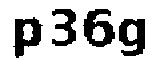3: (51, 3, 79, 51)
6: (81, 3, 114, 48)
g: (115, 13, 148, 60)
p: (10, 18, 45, 58)
